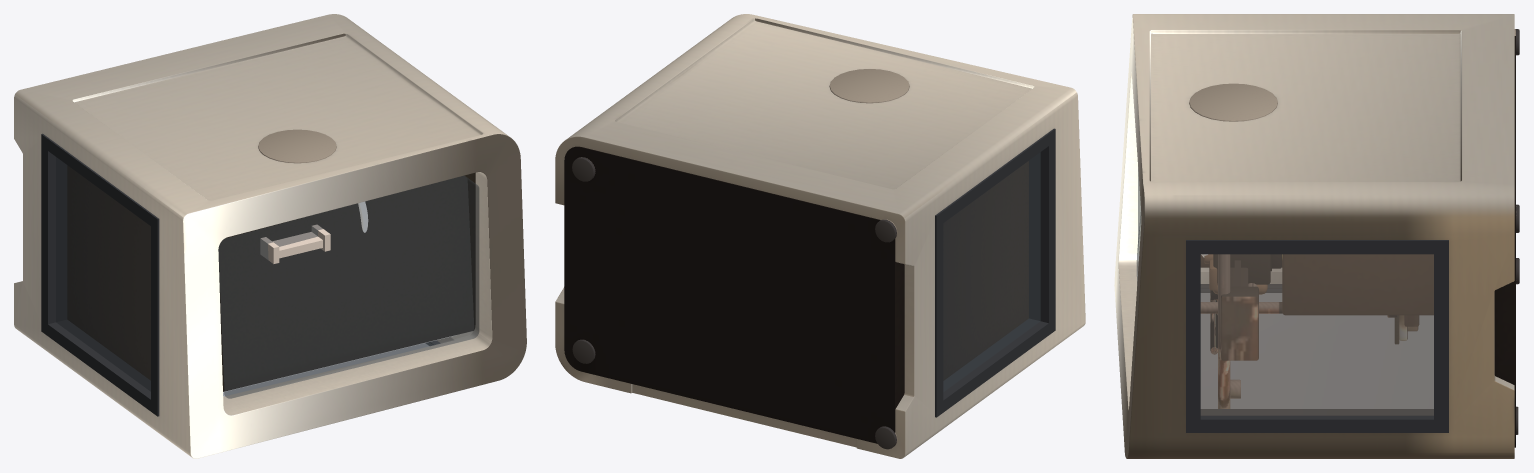
The model's file is deltrol_p2s_explorer_v37.glb.
3 views of the same model, side by side, from view 1: azimuth 30°, elevation 25°; view 2: azimuth 150°, elevation 25°; view 3: azimuth 270°, elevation 25° (orthographic). The views are drawn at different scales.
Visible parts, largest first — view 1: unibody_shell, top_roof_glass, interior_ceiling_liner, left_glass_window, interior_left_back_baffle, left_window_gasket, rear_exhaust_shroud, upper_gantry_rail_assembly, front_glass_door; view 2: unibody_shell, chassis_recessed_plinth, left_glass_window, interior_left_back_baffle, left_window_gasket, rear_exhaust_shroud; view 3: unibody_shell, right_glass_window, right_glass_sheen, front_glass_door, right_window_gasket, interior_rear_electronics_box, x_gantry_crossbeam, chassis_recessed_plinth, rear_exhaust_shroud, x_guide_front, toolhead_chassis.
Part boxes in pixels (x1,y1,x2,y2): unibody_shell: [14, 14, 526, 458]; top_roof_glass: [218, 176, 479, 398]; interior_ceiling_liner: [218, 172, 475, 391]; left_glass_window: [56, 157, 150, 391]; interior_left_back_baffle: [67, 165, 150, 380]; left_window_gasket: [41, 133, 159, 416]; rear_exhaust_shroud: [258, 129, 336, 163]; upper_gantry_rail_assembly: [260, 224, 330, 263]; front_glass_door: [223, 342, 432, 396]; unibody_shell: [555, 14, 1085, 458]; chassis_recessed_plinth: [564, 146, 904, 443]; left_glass_window: [943, 152, 1040, 391]; interior_left_back_baffle: [943, 161, 1028, 380]; left_window_gasket: [935, 128, 1055, 417]; rear_exhaust_shroud: [829, 69, 909, 103]; unibody_shell: [1114, 14, 1514, 458]; right_glass_window: [1201, 254, 1433, 414]; right_glass_sheen: [1201, 255, 1433, 414]; front_glass_door: [1201, 289, 1433, 408]; right_window_gasket: [1186, 240, 1448, 432]; interior_rear_electronics_box: [1201, 254, 1433, 314]; x_gantry_crossbeam: [1221, 260, 1258, 360]; chassis_recessed_plinth: [1494, 36, 1515, 447]; rear_exhaust_shroud: [1189, 83, 1277, 121]; x_guide_front: [1201, 254, 1397, 408]; toolhead_chassis: [1213, 254, 1270, 284].
Bounding box in the file's own units: 0.426 × 0.2955 × 0.3818.
19 materials, 14 textured.
